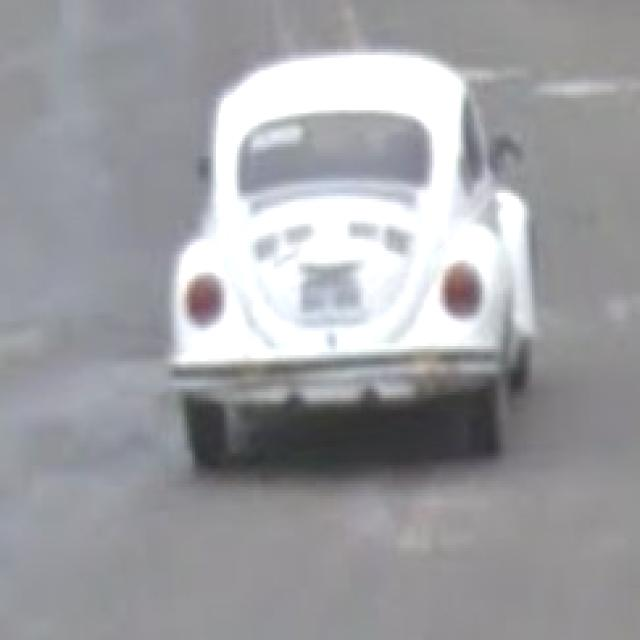car: (176, 61, 540, 471)
